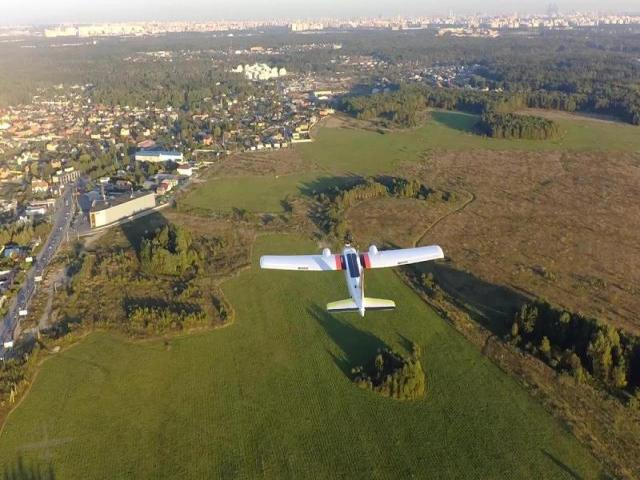hedef: (258, 240, 446, 316)
